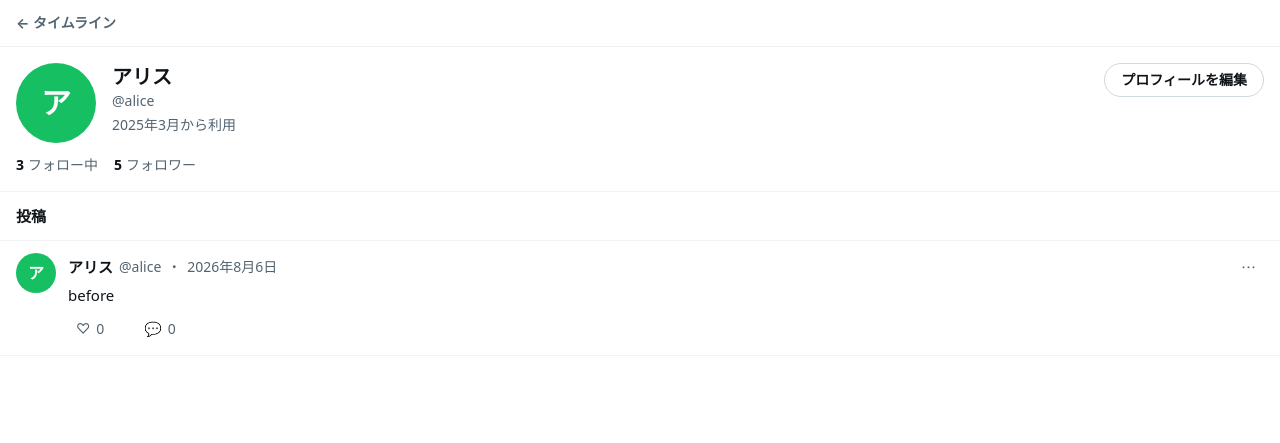
Scenario: ProfilePage › 自分のプロフィールでは投稿を編集・削除でき、一覧に反映される
The width and height of the screenshot is (1280, 443).
Expected: the text "before" is shown, [68,285,114,305]
Click the button "⋯" at x=1248, y=267, box [1233,253,1264,281]
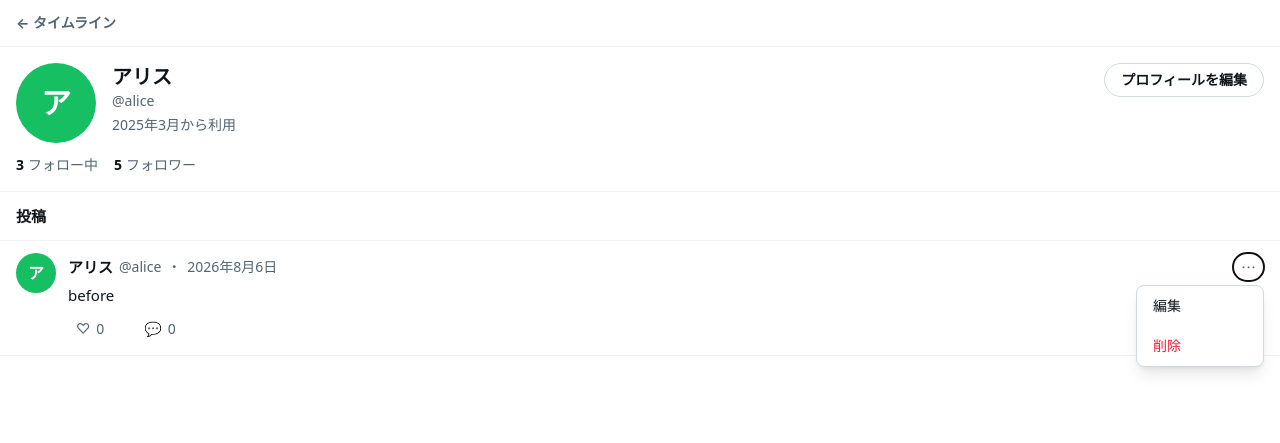
Click the button "編集" at x=1200, y=306, box [1137,286,1263,326]
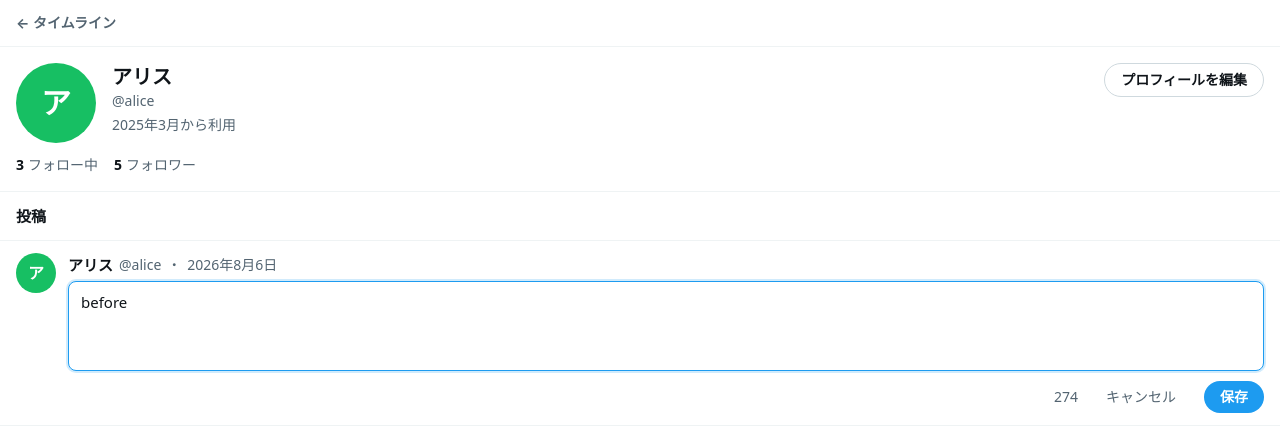
Replace the text in the text box named "投稿の本文を編集" with "after" at x=666, y=326, box [68,281,1264,371]
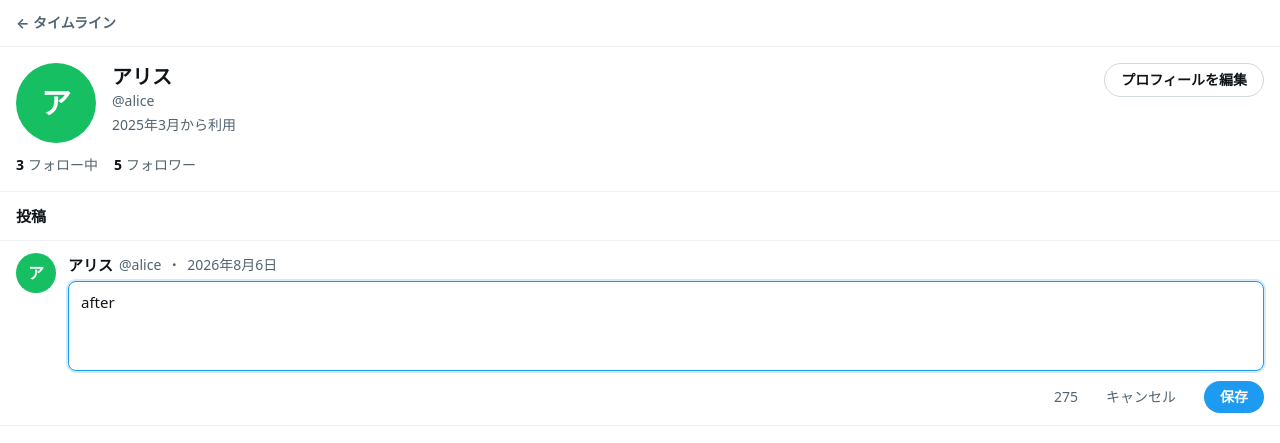
Click the button "保存" at x=1234, y=397, box [1204,381,1264,413]
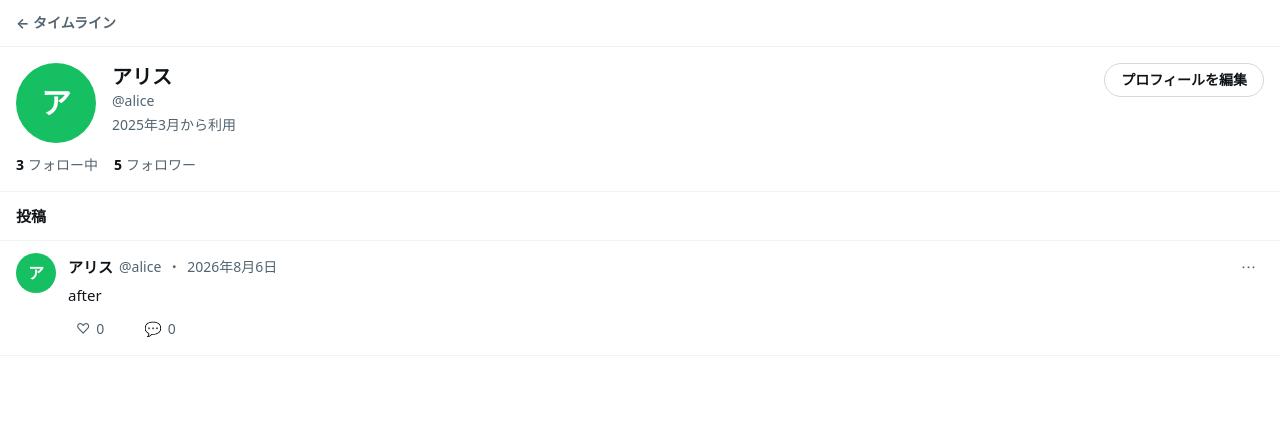
Result: the text "after" is shown at [68,285,102,305]
Click the button named "投稿メニュー" at x=1248, y=267, box [1233,253,1264,281]
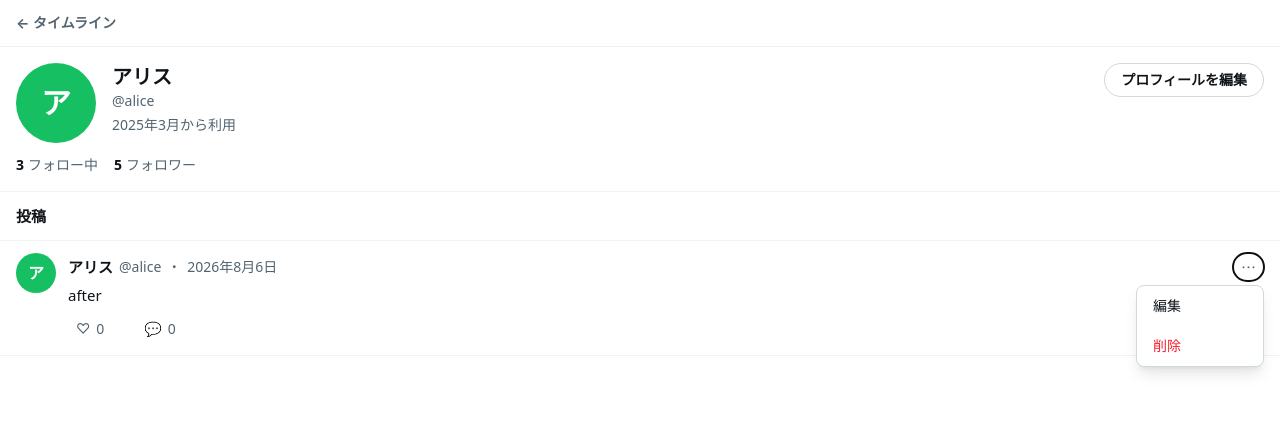
Click the button "削除" at x=1200, y=346, box [1137,326,1263,366]
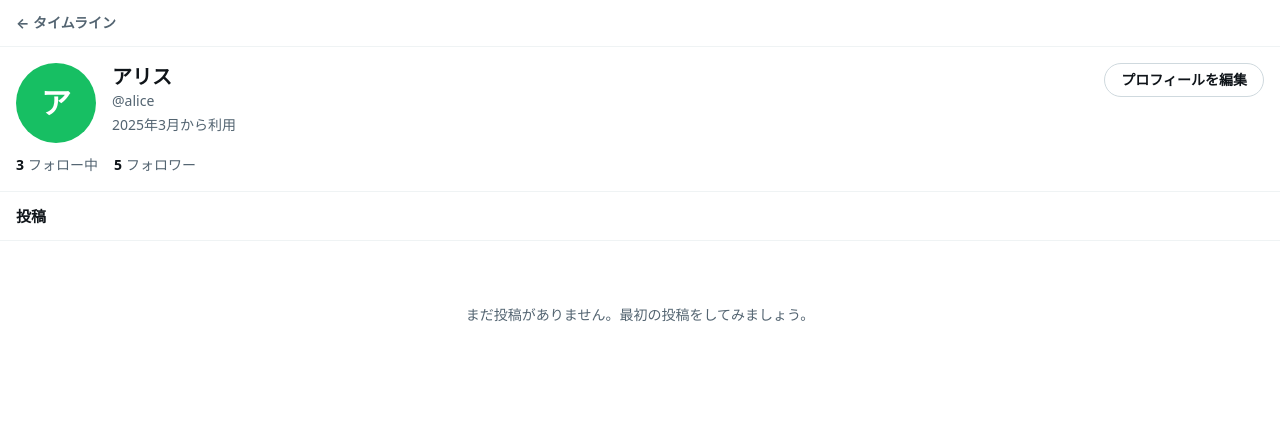
Result: the text "after" is gone
